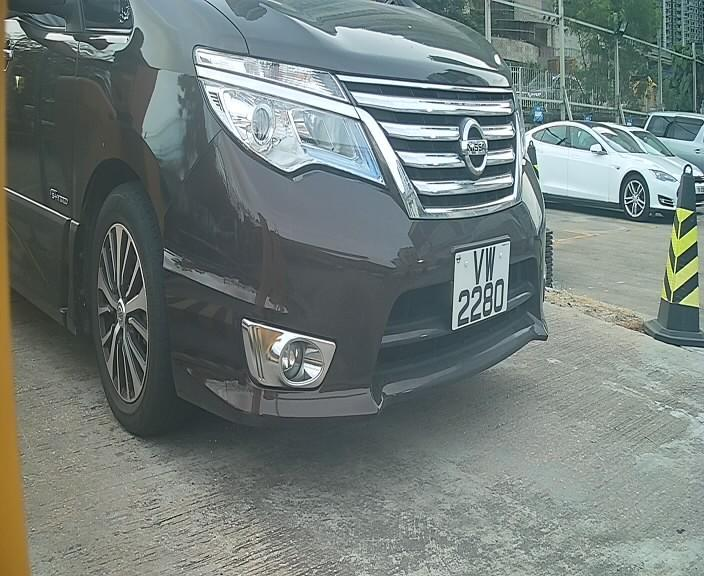License Plate: (444, 227, 519, 338)
